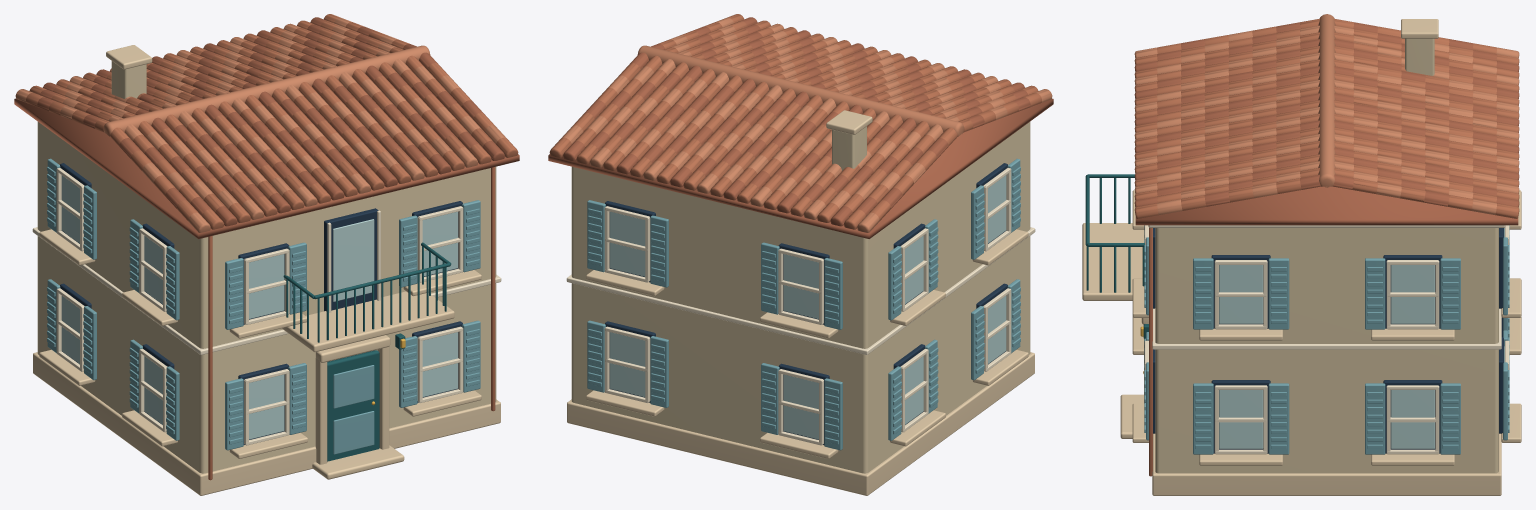
File: KKTC_House_3.fbx
3 renders of one model, left to right at view 1: azimuth 30°, elevation 25°; view 2: azimuth 150°, elevation 25°; view 3: azimuth 270°, elevation 25°, orthographic. The views are drawn at different scales.
Parts seen in each view (by area): view 1: HouseVolume_YY_paleOchre, HouseVolume_YY_roofClay.002, HouseVolume_YY_stone.002, HouseVolume_YY_roofClayDark.002, HouseVolume_YY_blue, HouseVolume_YY_roofClayLight.002, HouseVolume_YY_glass.002, HouseVolume_YY_cream.002, HouseVolume_YY_tealDark.002, HouseVolume_YY_navy.002, HouseVolume_YY_terracotta.002; view 2: HouseVolume_YY_paleOchre, HouseVolume_YY_roofClay.002, HouseVolume_YY_roofClayDark.002, HouseVolume_YY_roofClayLight.002, HouseVolume_YY_stone.002, HouseVolume_YY_blue, HouseVolume_YY_cream.002, HouseVolume_YY_glass.002, HouseVolume_YY_navy.002; view 3: HouseVolume_YY_paleOchre, HouseVolume_YY_roofClay.002, HouseVolume_YY_roofClayDark.002, HouseVolume_YY_stone.002, HouseVolume_YY_roofClayLight.002, HouseVolume_YY_blue, HouseVolume_YY_glass.002, HouseVolume_YY_cream.002, HouseVolume_YY_navy.002, HouseVolume_YY_tealDark.002, HouseVolume_YY_terracotta.002.
Part boxes in pixels (left/top/right/bottom): HouseVolume_YY_paleOchre: left=37, top=61, right=496, bottom=473; HouseVolume_YY_roofClay.002: left=26, top=14, right=518, bottom=229; HouseVolume_YY_stone.002: left=33, top=45, right=500, bottom=495; HouseVolume_YY_roofClayDark.002: left=14, top=17, right=519, bottom=238; HouseVolume_YY_blue: left=47, top=158, right=480, bottom=454; HouseVolume_YY_roofClayLight.002: left=15, top=17, right=506, bottom=232; HouseVolume_YY_glass.002: left=61, top=175, right=457, bottom=439; HouseVolume_YY_cream.002: left=32, top=168, right=501, bottom=445; HouseVolume_YY_tealDark.002: left=283, top=242, right=451, bottom=461; HouseVolume_YY_navy.002: left=60, top=163, right=462, bottom=444; HouseVolume_YY_terracotta.002: left=208, top=167, right=495, bottom=480; HouseVolume_YY_paleOchre: left=571, top=122, right=1030, bottom=473; HouseVolume_YY_roofClay.002: left=549, top=14, right=1041, bottom=229; HouseVolume_YY_roofClayDark.002: left=548, top=17, right=1053, bottom=238; HouseVolume_YY_roofClayLight.002: left=561, top=17, right=1052, bottom=232; HouseVolume_YY_stone.002: left=567, top=110, right=1034, bottom=495; HouseVolume_YY_blue: left=587, top=158, right=1020, bottom=450; HouseVolume_YY_cream.002: left=566, top=168, right=1035, bottom=445; HouseVolume_YY_glass.002: left=610, top=175, right=1006, bottom=439; HouseVolume_YY_navy.002: left=605, top=163, right=1007, bottom=444; HouseVolume_YY_paleOchre: left=1155, top=38, right=1498, bottom=473; HouseVolume_YY_roofClay.002: left=1134, top=18, right=1519, bottom=218; HouseVolume_YY_roofClayDark.002: left=1134, top=22, right=1519, bottom=225; HouseVolume_YY_stone.002: left=1082, top=19, right=1521, bottom=495; HouseVolume_YY_roofClayLight.002: left=1134, top=14, right=1519, bottom=214; HouseVolume_YY_blue: left=1144, top=225, right=1509, bottom=454; HouseVolume_YY_glass.002: left=1219, top=228, right=1504, bottom=448; HouseVolume_YY_cream.002: left=1144, top=225, right=1509, bottom=454; HouseVolume_YY_navy.002: left=1153, top=228, right=1503, bottom=453; HouseVolume_YY_tealDark.002: left=1085, top=174, right=1148, bottom=338; HouseVolume_YY_terracotta.002: left=1149, top=228, right=1152, bottom=476.
Size of the model in its own units: 698 by 669 by 767.
